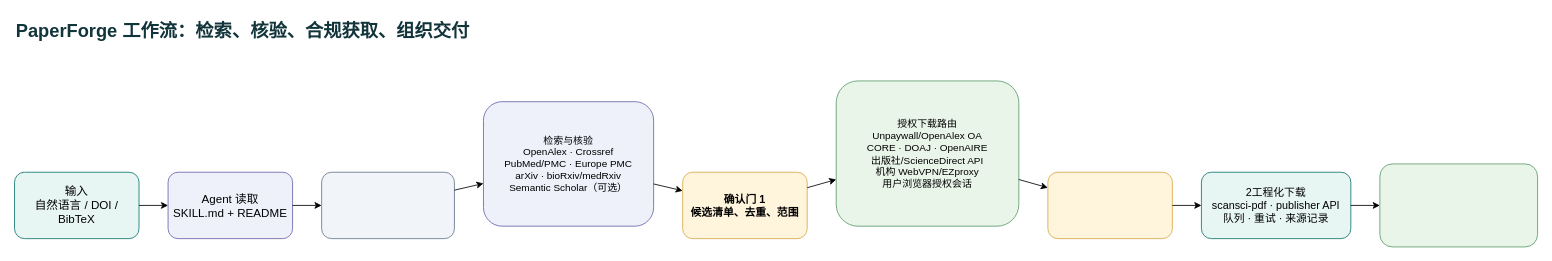
Image size: 1552x261. Some labels were removed from this diagram. Each missing label, with the centre of its shape:
"0路由工具 envcheck · bootstrap normalize · queue" goes at (x=387, y=205).
"交付 PDF + CSV/XLSX/MD JSONL 日志 · failures.md DOI 索引 · 可审计来源" goes at (x=1458, y=205).
"确认门 2 下载范围 + 补充材料" goes at (x=1109, y=205).
